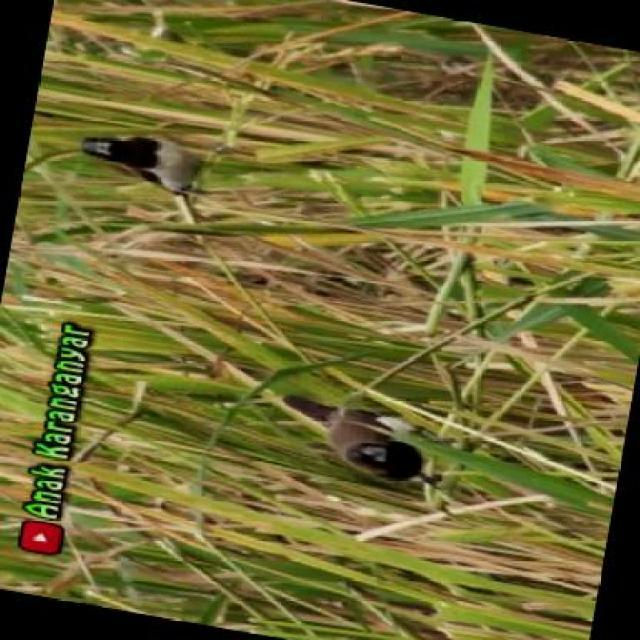Bird: (272, 387, 452, 499), (72, 126, 219, 211)
